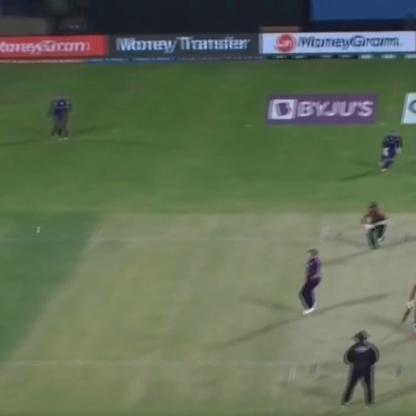ball: (34, 224, 45, 238)
pitch: (289, 210, 415, 402)
